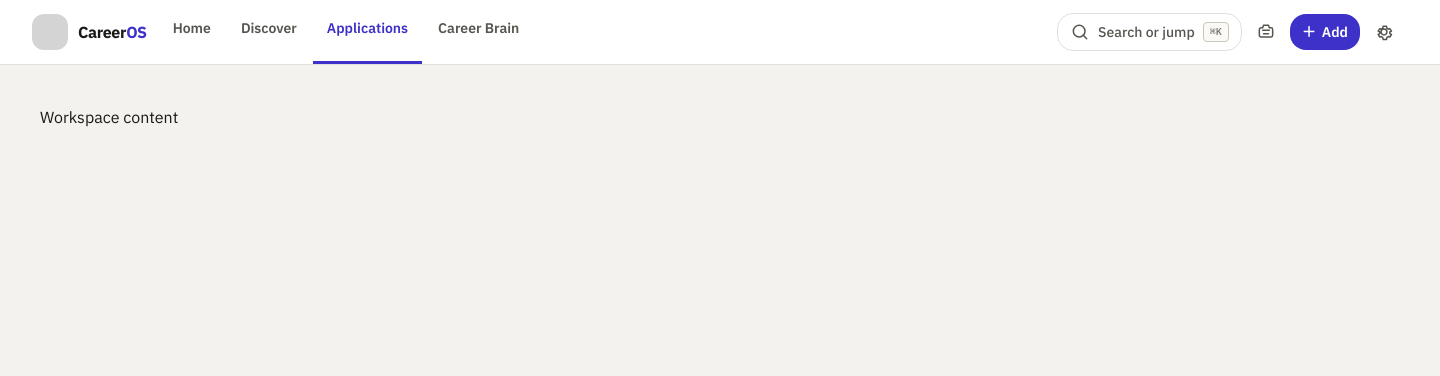
Test: AppShell › closes settings when the user clicks elsewhere
The width and height of the screenshot is (1440, 376).
Step 1. Click the button named "Settings" → (1384, 32), box left=1366, top=14, right=1402, bottom=50
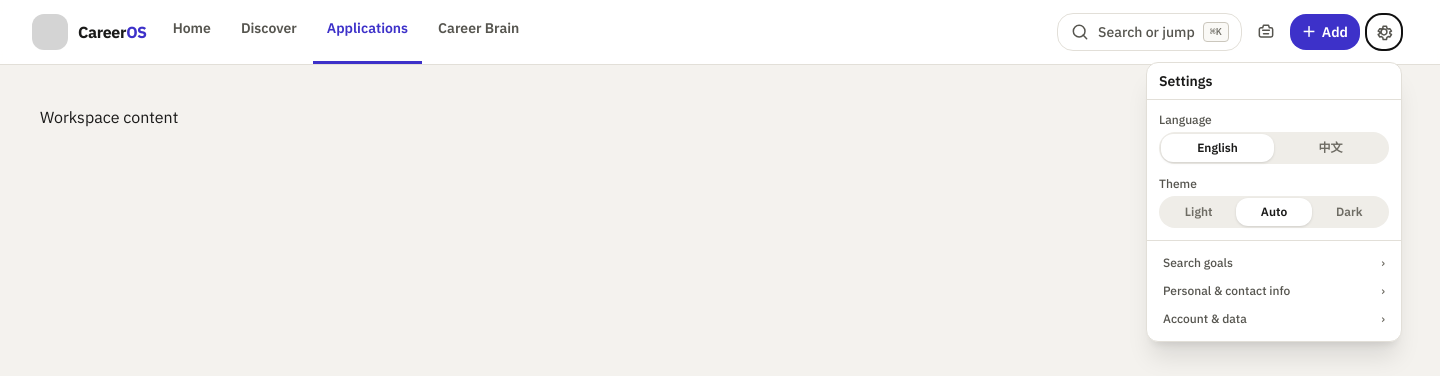
Check: the element with test id "settings-menu" is shown, box left=1146, top=62, right=1402, bottom=342
Step 2. Click the text "Workspace content" → (109, 117), box left=40, top=107, right=178, bottom=127
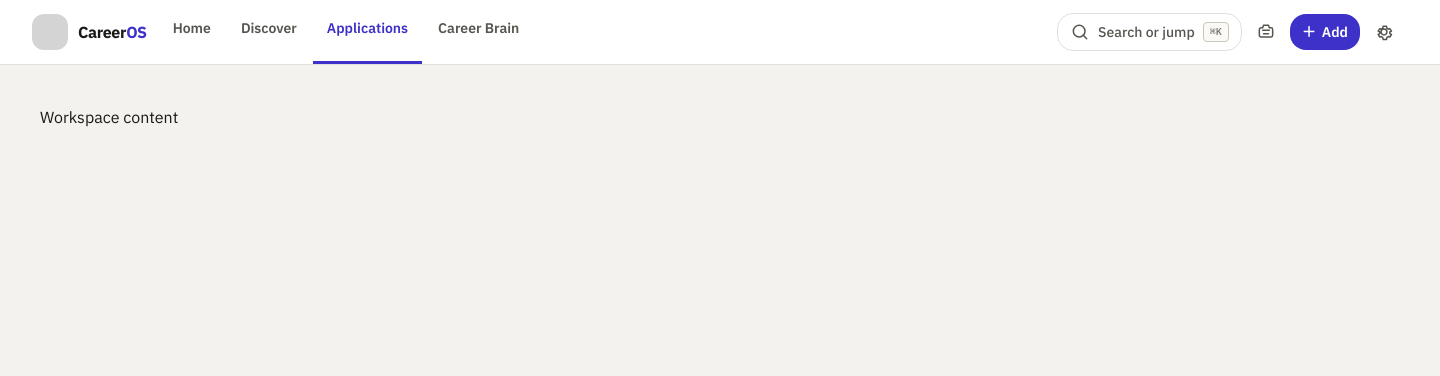
Check: the element with test id "settings-menu" is gone
